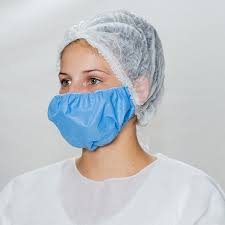with_mask_and_cap: (57, 13, 149, 149)
